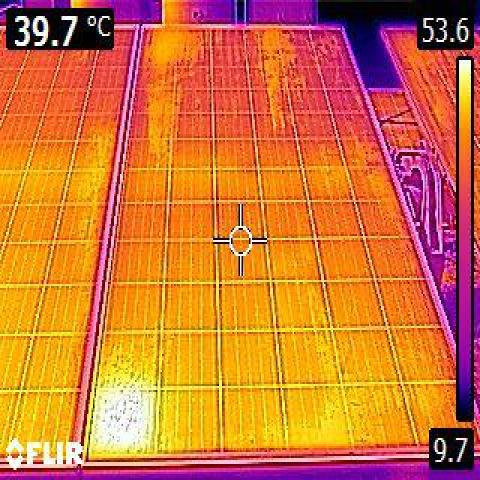fault: (97, 386, 154, 448)
